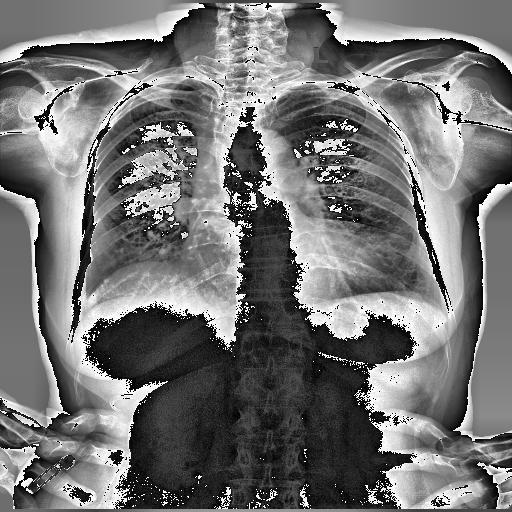0- Aortic enlargement: (234, 128, 296, 180), (232, 128, 296, 174), (251, 130, 298, 174)
13- Pulmonary fibrosis: (150, 132, 196, 190)
3- Cardiomegaly: (178, 238, 400, 308), (180, 238, 396, 292), (182, 242, 401, 290)
8- Nodule-Mass: (116, 247, 126, 256), (136, 200, 142, 213), (158, 246, 166, 254), (146, 228, 154, 236)
